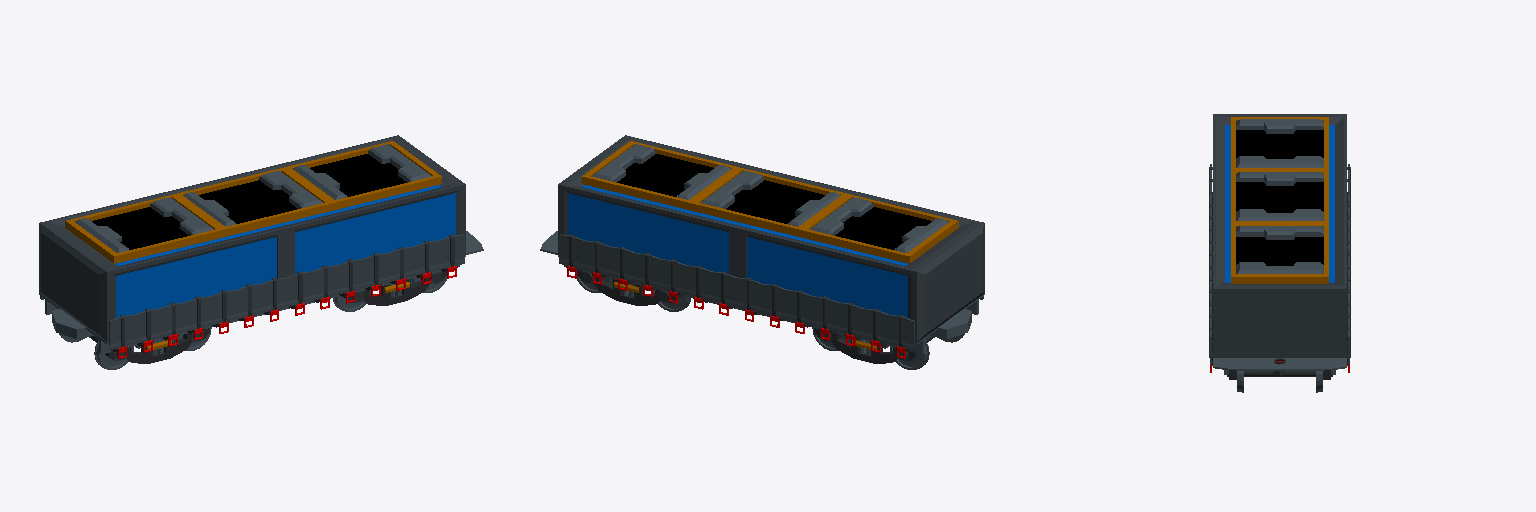
The picture shows the model from 3 angles: view 1: azimuth 30°, elevation 25°; view 2: azimuth 150°, elevation 25°; view 3: azimuth 270°, elevation 25°; orthographic projection.
Visible parts, largest first — view 1: BombWagon_Cube.005; view 2: BombWagon_Cube.005; view 3: BombWagon_Cube.005.
Part boxes in pixels (x1,y1,x2,y2): BombWagon_Cube.005: (39,135,483,369); BombWagon_Cube.005: (540,135,984,369); BombWagon_Cube.005: (1209,114,1350,392).
Size of the model in its own units: 11.35 by 3.26 by 3.5.
Materials: 1 (1 with a texture image).